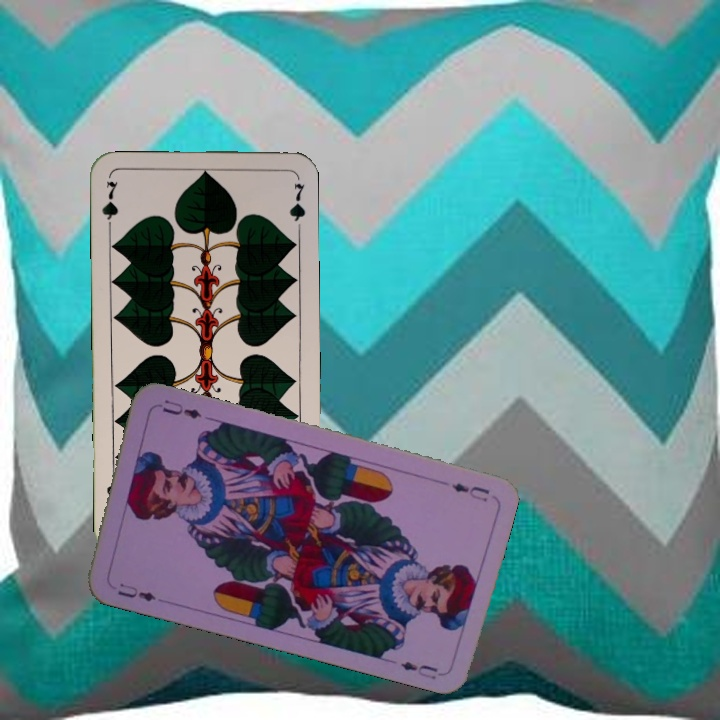EU: (113, 579, 159, 605), (448, 478, 492, 505)
G7: (98, 177, 121, 236)
